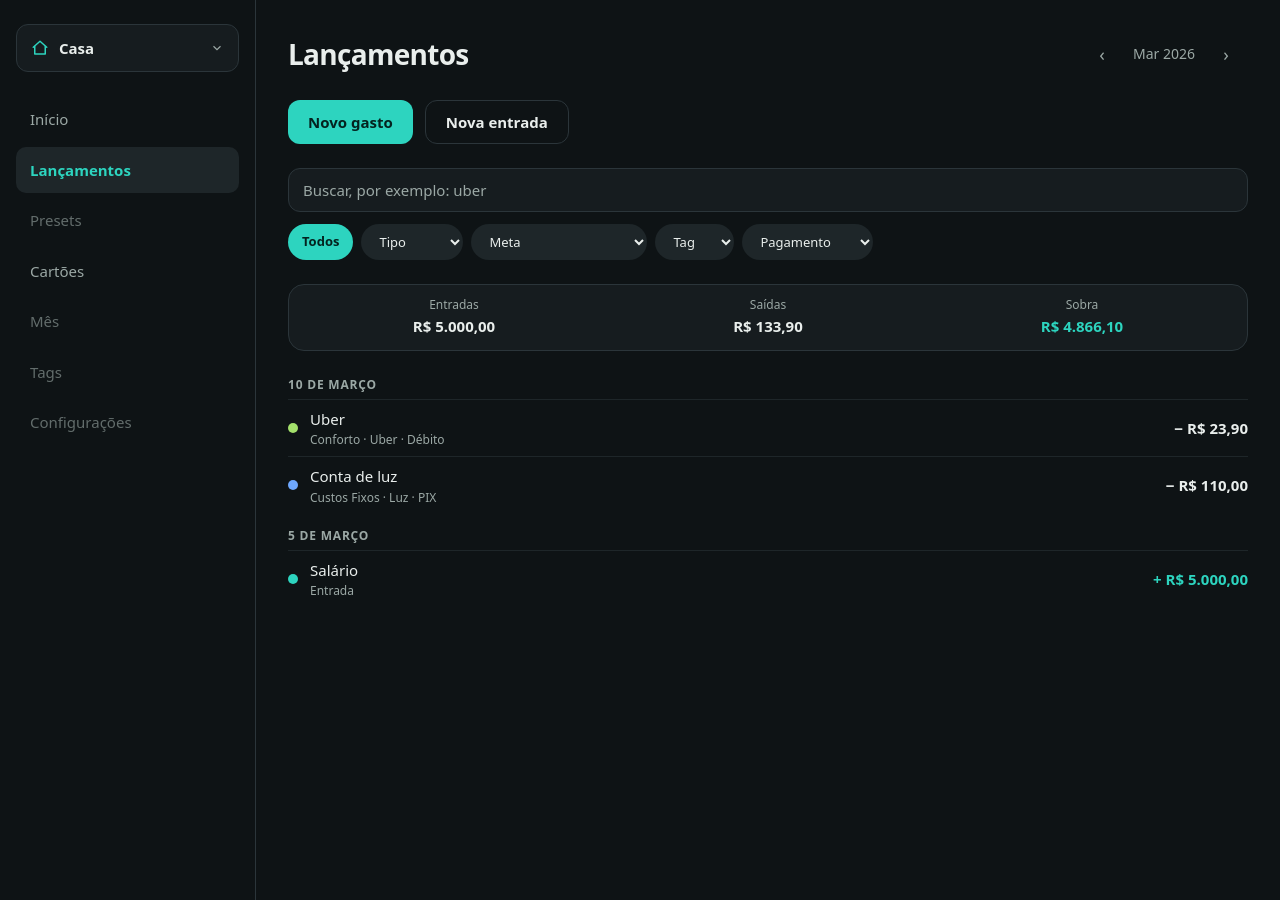
Test: lista de lançamentos › filtro sem resultado diz que nada foi encontrado
Expected: the text "Salário" is shown, [310, 560, 358, 580]
In the search field named "Buscar lançamentos": [768, 190] box [288, 168, 1248, 212], type "xyz"
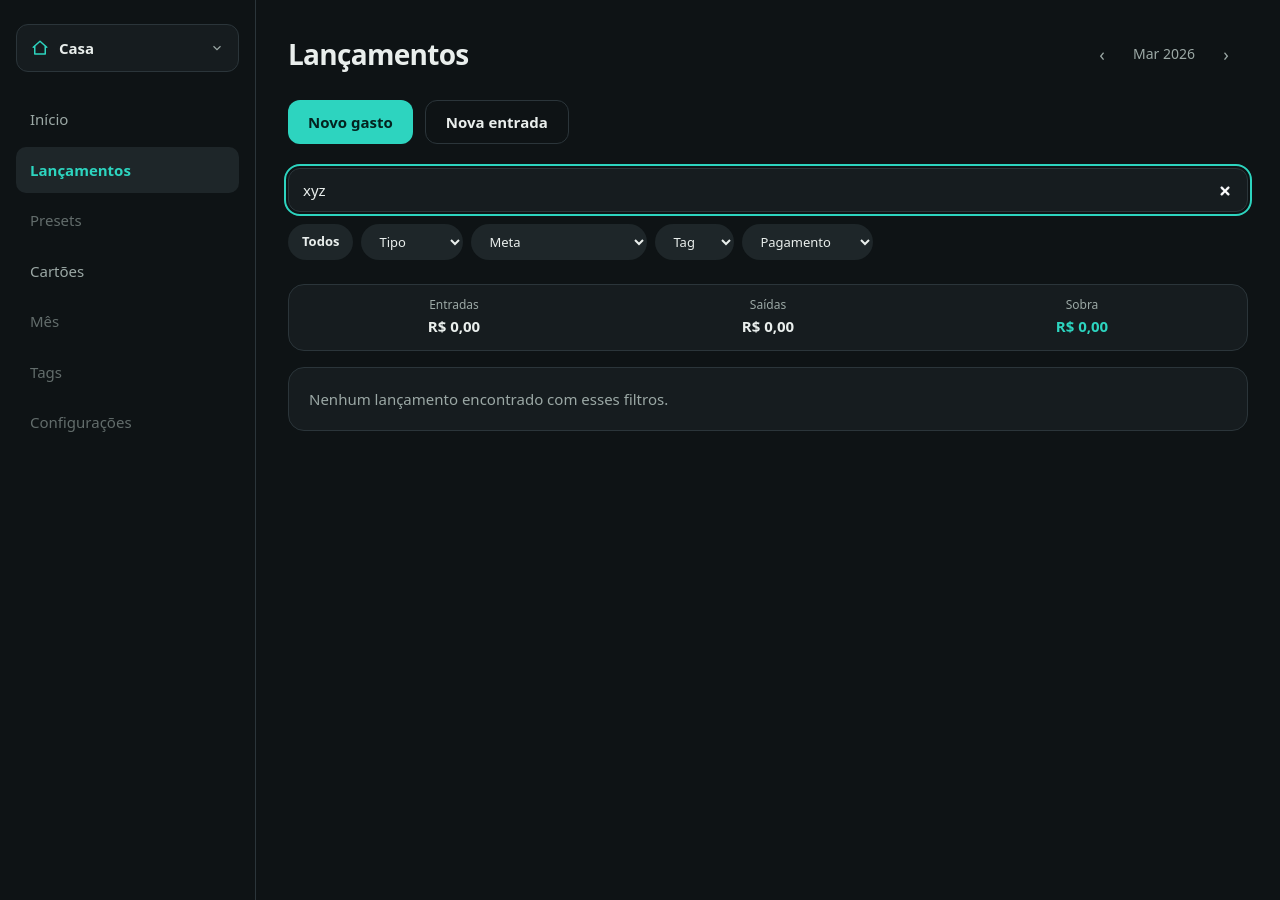
Result: the text "Nenhum lançamento encontrado com esses filtros." is shown at [288, 366, 1248, 431]
